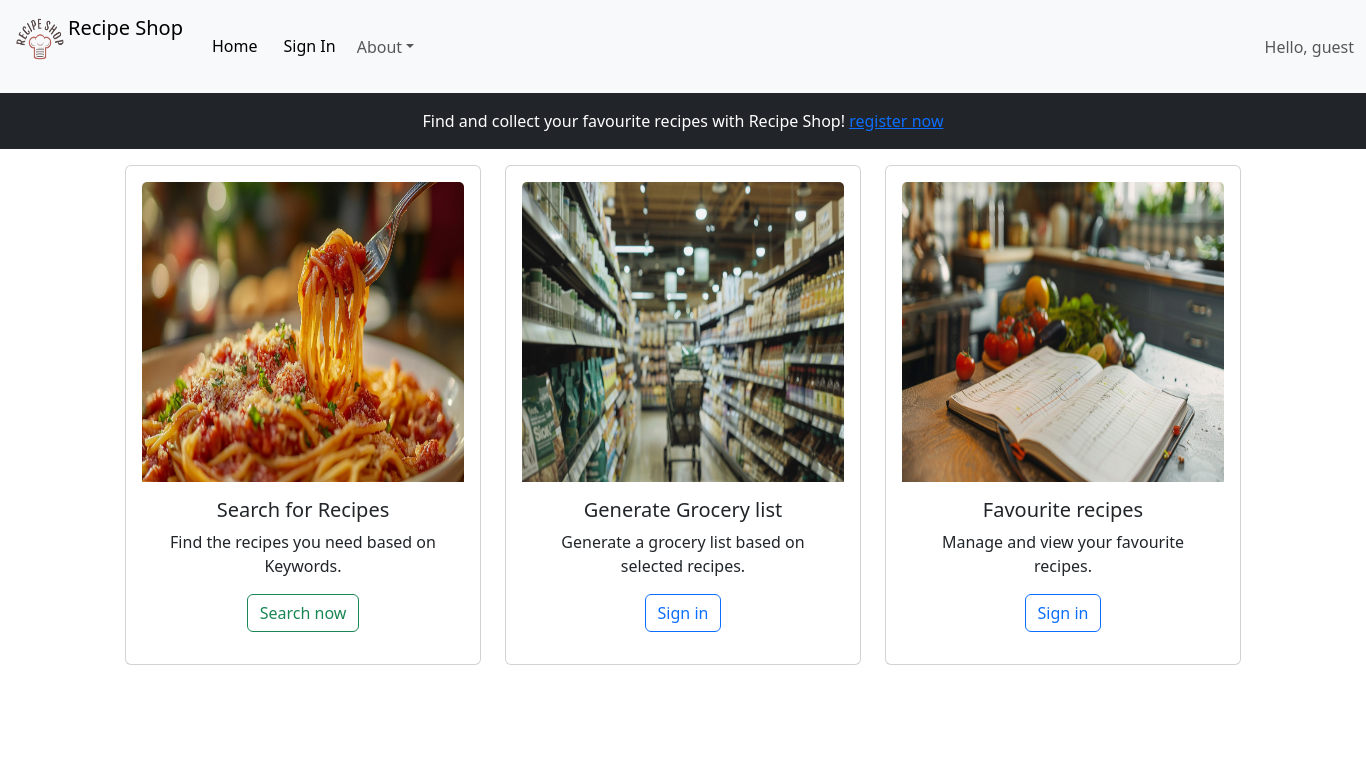
Test: App router Functionality › Signin button working properly
The image size is (1366, 768).
Click the button "Sign In".
click(310, 46)  # box [270,26,349,64]
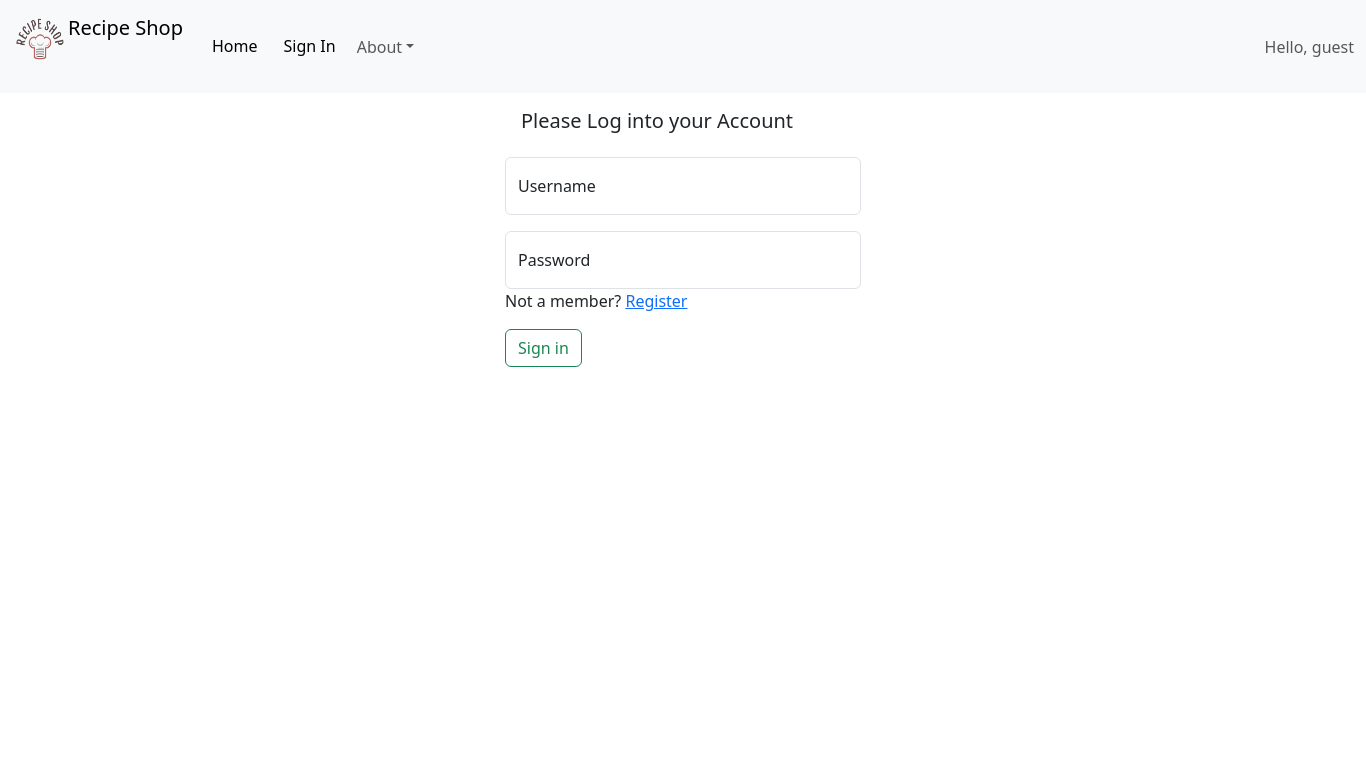
Expected: the button "Sign in" is enabled, [505,329,582,367]
Result: the heading "Please Log into your Account" is shown at [521,107,793,134]
